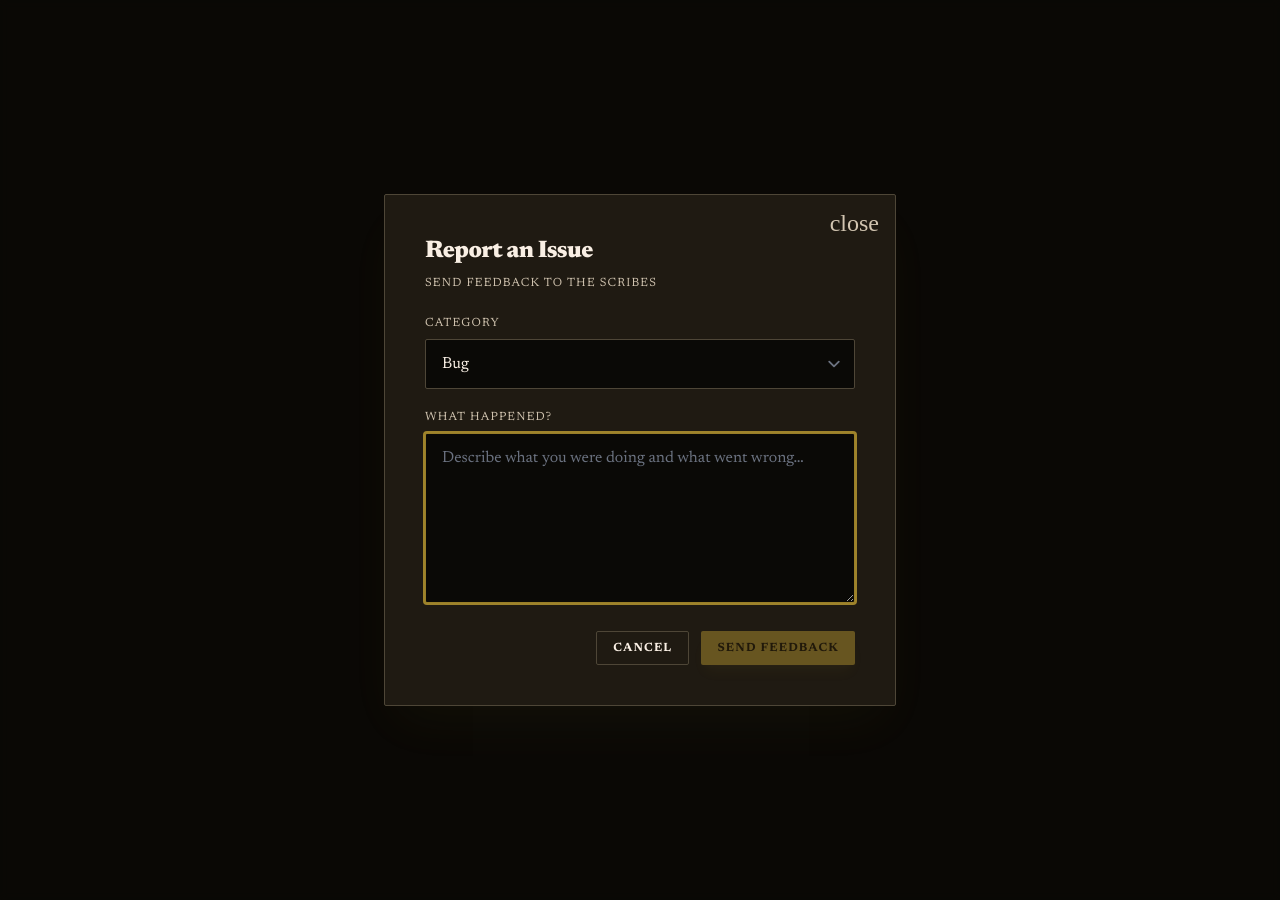
Test case: FeedbackModal › shows error message on non-OK response
The width and height of the screenshot is (1280, 900).
In the text box: (640,518) [425,433,855,603], type "boom"
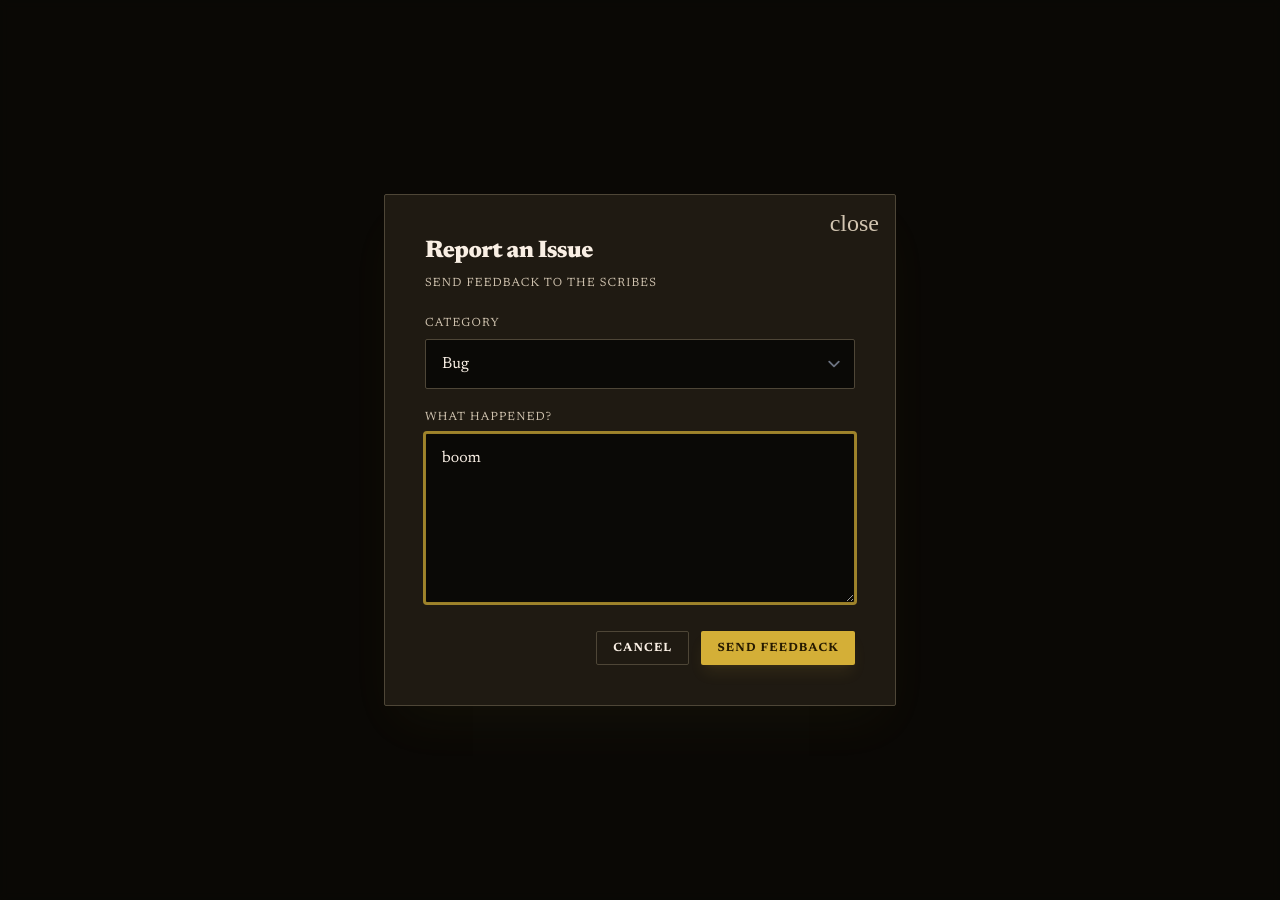
Click the button "Send feedback": (778,648) [701,631,855,665]
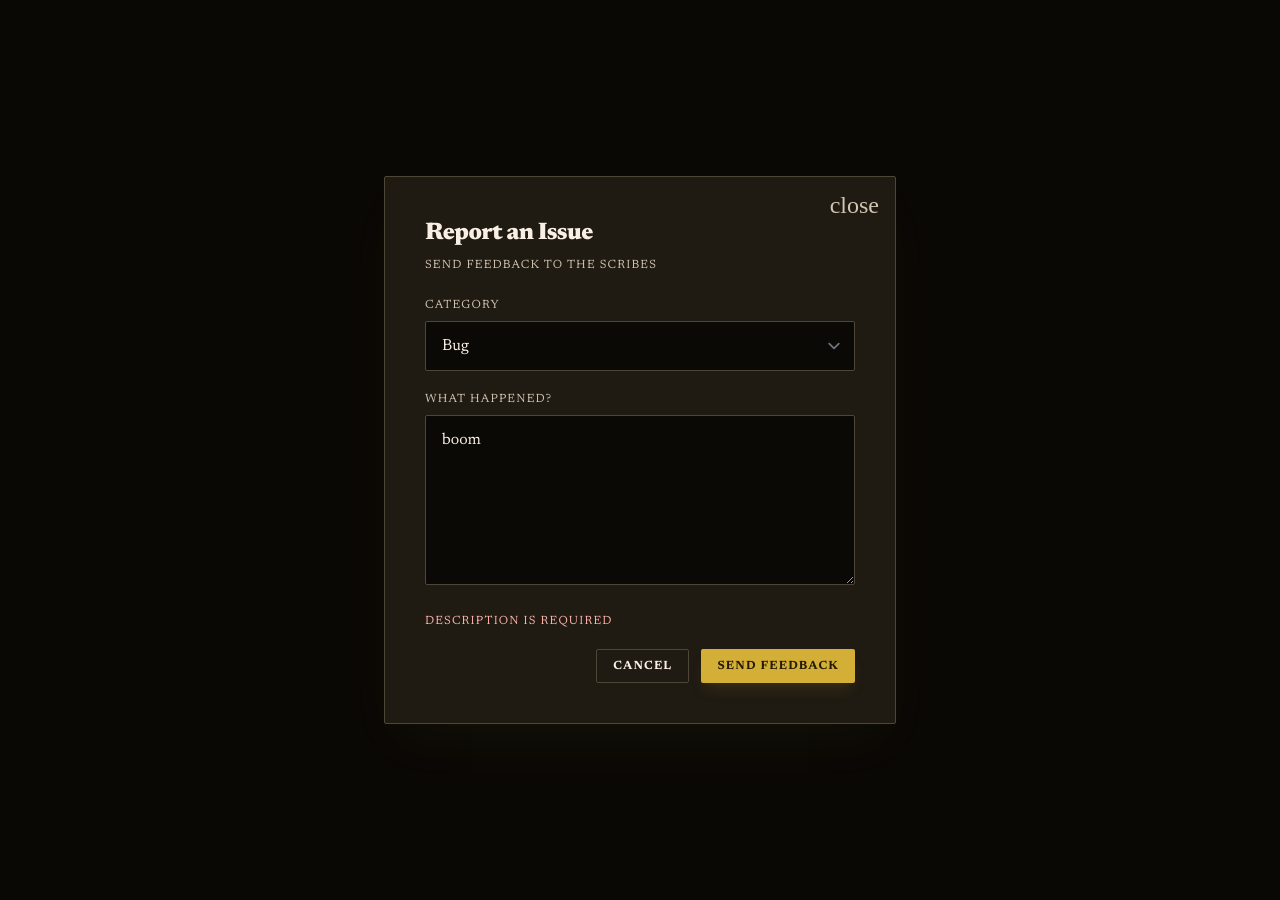
Expected: the message reads "description is required", [425,615,613,627]
